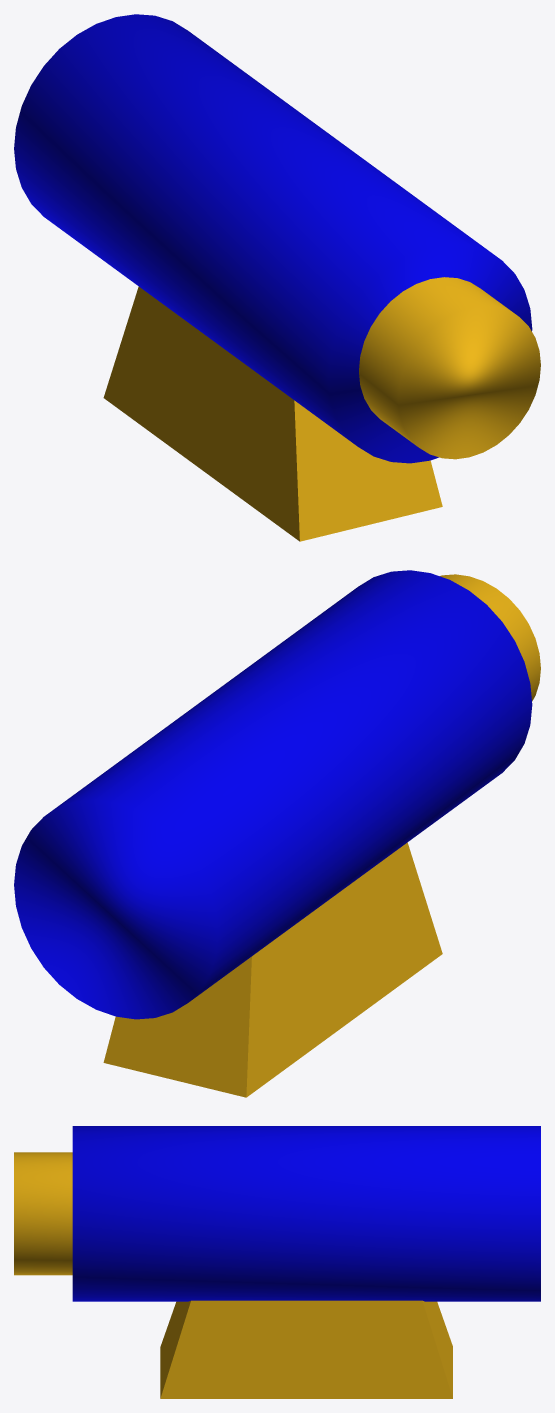
Rendered from CatWeapon.glb.
The picture shows the model from 3 angles, top to bottom: view 1: azimuth 30°, elevation 25°; view 2: azimuth 150°, elevation 25°; view 3: azimuth 270°, elevation 25°; orthographic projection. The views are drawn at different scales.
Parts seen in each view (by area): view 1: Cylinder.001, Cube.003, Cylinder.002; view 2: Cylinder.001, Cube.003, Cylinder.002; view 3: Cylinder.001, Cube.003, Cylinder.002.
Part boxes in pixels (x1=…): Cylinder.001: x1=14, y1=14, x2=532, y2=463; Cube.003: x1=103, y1=286, x2=442, y2=541; Cylinder.002: x1=359, y1=277, x2=540, y2=459; Cylinder.001: x1=14, y1=570, x2=532, y2=1019; Cube.003: x1=103, y1=842, x2=442, y2=1097; Cylinder.002: x1=440, y1=574, x2=540, y2=701; Cylinder.001: x1=72, y1=1126, x2=540, y2=1301; Cube.003: x1=160, y1=1300, x2=452, y2=1398; Cylinder.002: x1=14, y1=1152, x2=72, y2=1275.
Size of the model in its own units: 0.6 by 0.9 by 1.8.
